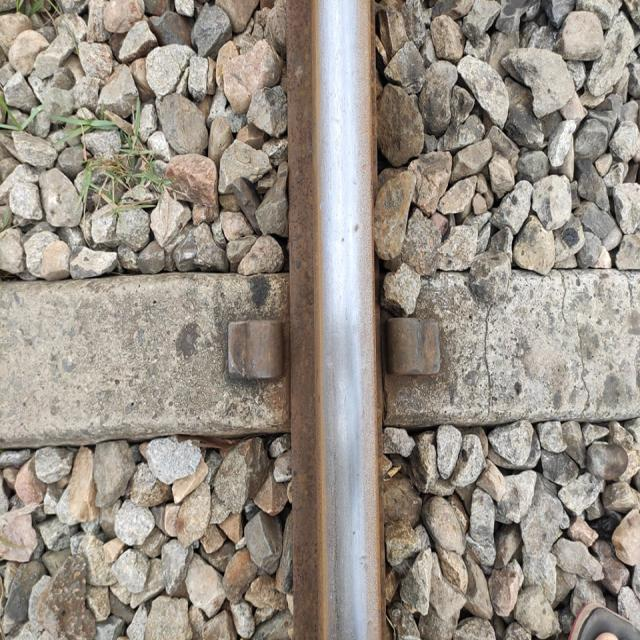fault: (220, 310, 447, 396)
